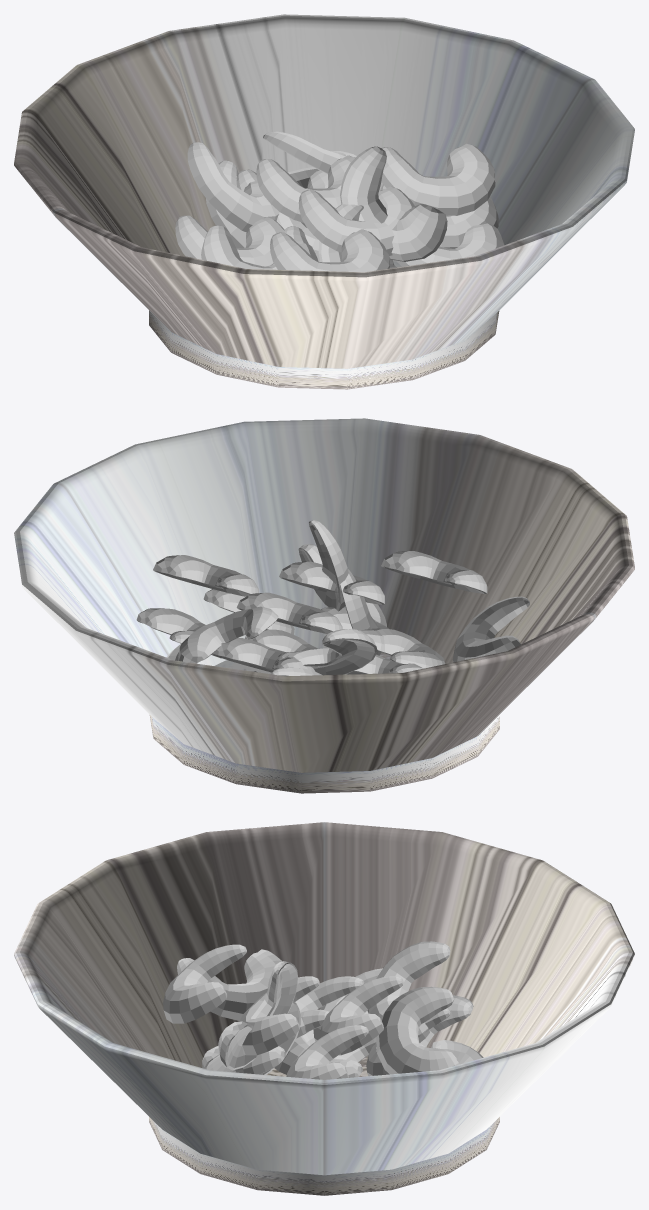
Rendered from ramequin_plus_noix.FBX.
3 renders of one model, top to bottom at view 1: azimuth 30°, elevation 25°; view 2: azimuth 150°, elevation 25°; view 3: azimuth 270°, elevation 25°, orthographic.
Parts seen in each view (by area): view 1: cashewnut002; view 2: cashewnut002; view 3: cashewnut002.
Part boxes in pixels (box(x1,y1,x2,y2)): cashewnut002: box(14, 14, 634, 389); cashewnut002: box(14, 418, 634, 793); cashewnut002: box(14, 822, 634, 1195).
Size of the model in its own units: 32.72 by 10.15 by 32.72.
